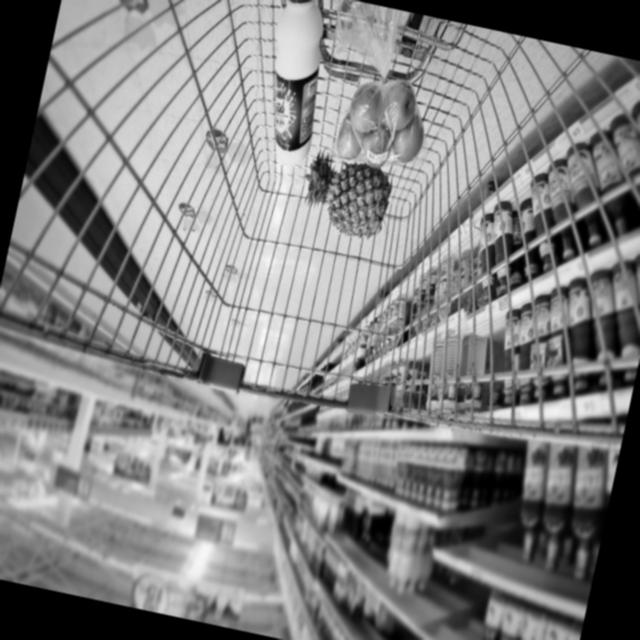dua: (294, 152, 394, 245)
sua: (242, 0, 340, 167)
tao: (324, 70, 436, 176)
